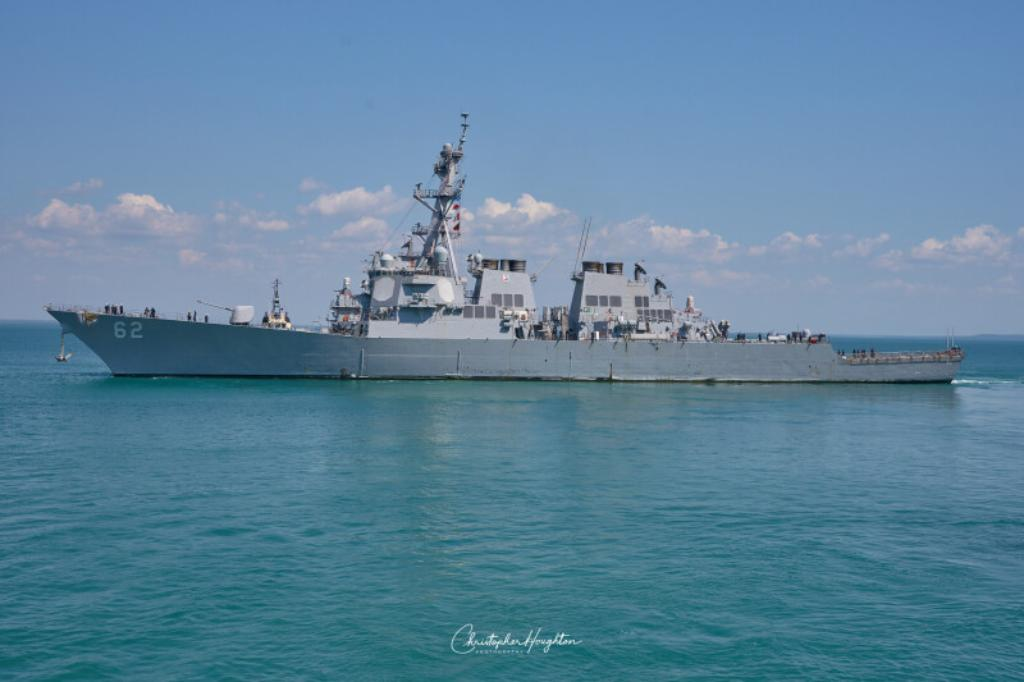Warship: (35, 108, 973, 384)
